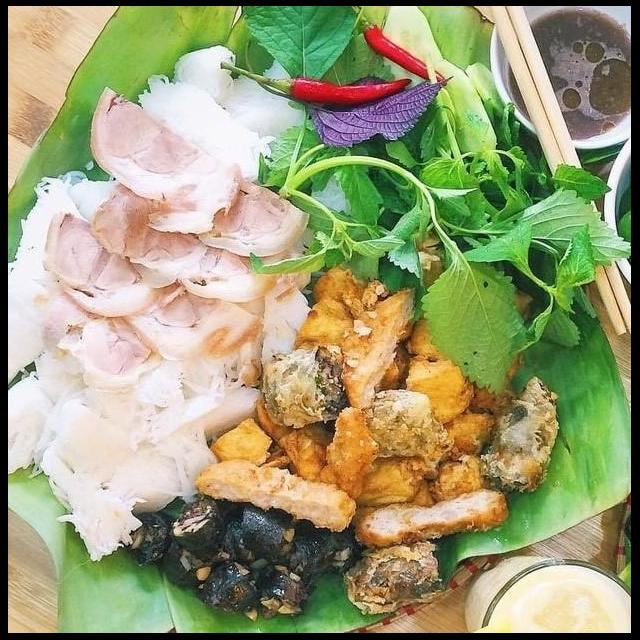bun: (10, 358, 272, 566), (10, 168, 126, 384), (134, 46, 316, 182)
bun dau: (34, 46, 615, 615)
cha com: (186, 458, 362, 544), (330, 278, 416, 416), (344, 476, 512, 542)
cha gio: (478, 376, 566, 499), (254, 338, 350, 434), (338, 538, 448, 618)
dau hu: (404, 348, 484, 426)
doi sun: (122, 492, 358, 624)
thit heo: (86, 176, 306, 306), (83, 82, 245, 236), (29, 268, 182, 394), (38, 206, 198, 322), (114, 268, 266, 366), (158, 167, 312, 260)
